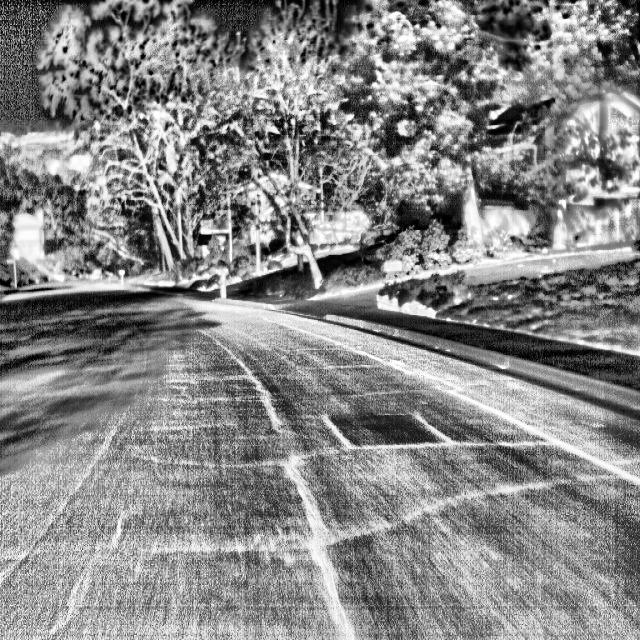mail box: (114, 267, 134, 292)
